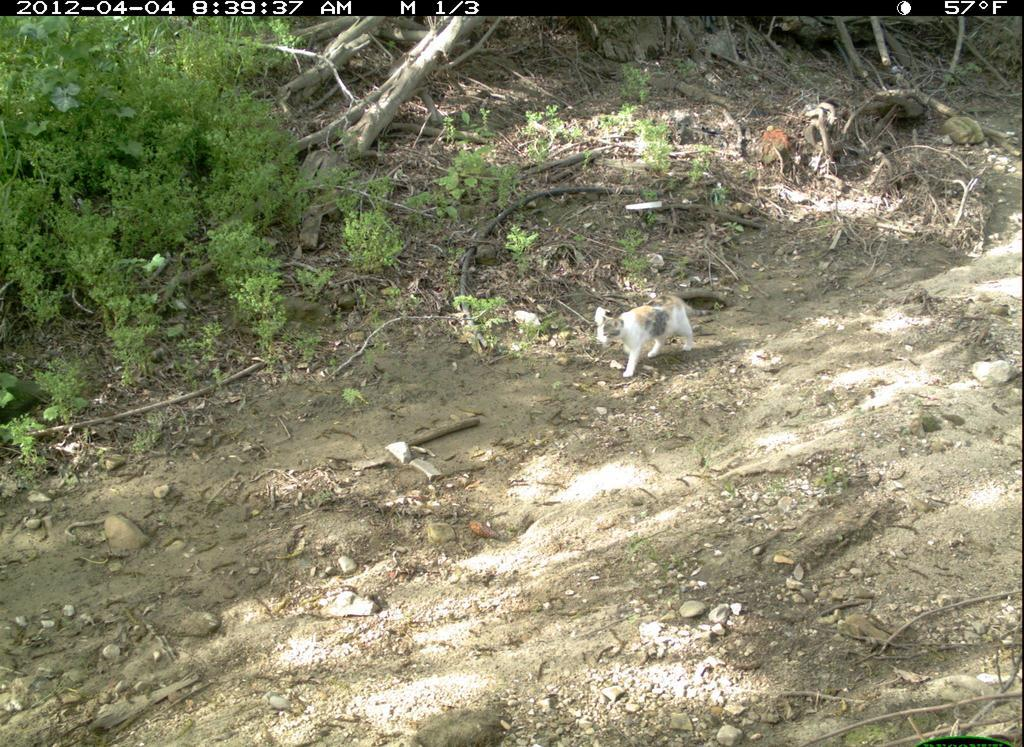cat: (594, 295, 713, 377)
